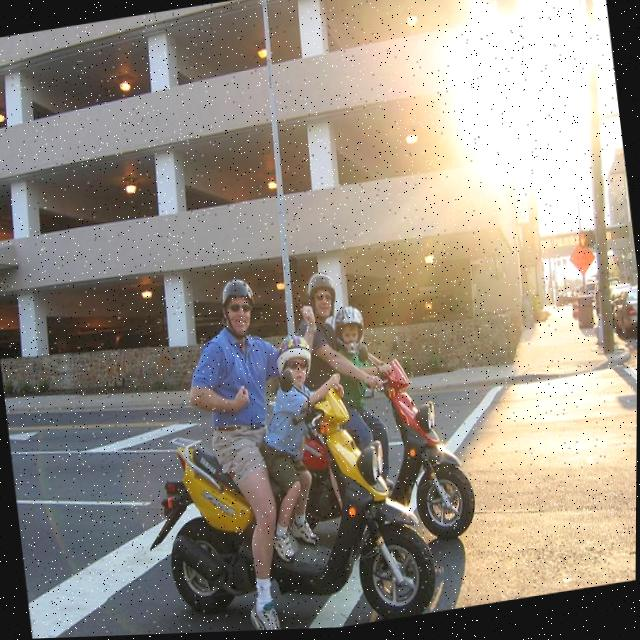motorcycle: (140, 363, 443, 635), (291, 326, 484, 555)
